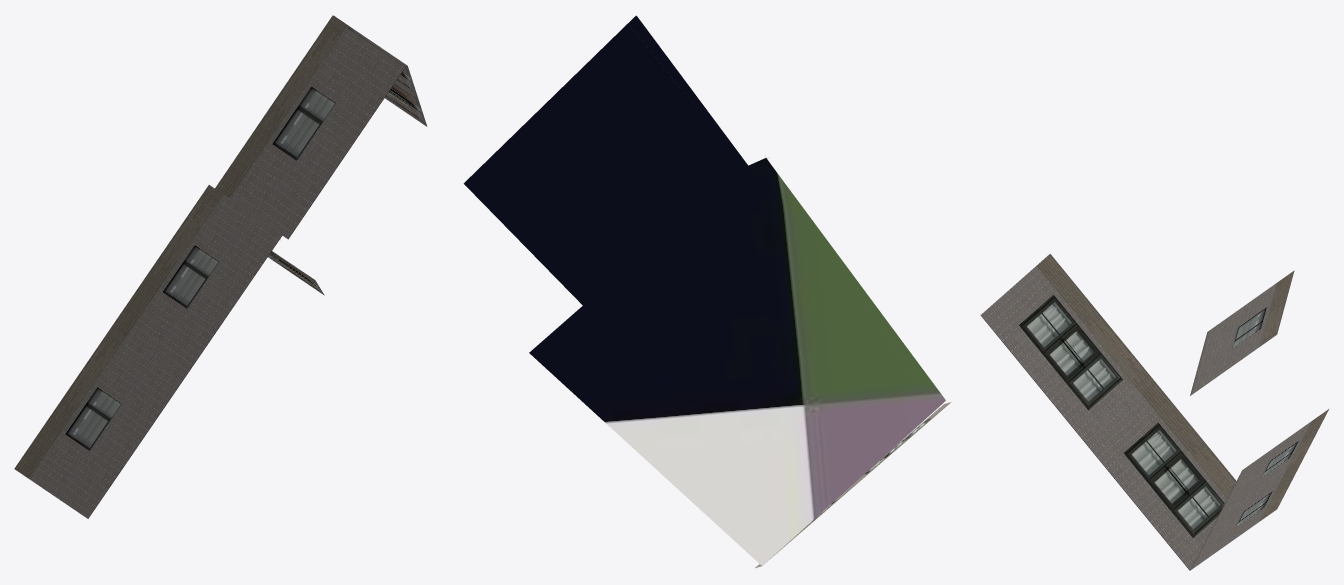
The model's file is tile_LOD4_r3_c1.glb.
3 views of the same model, side by side, from view 1: azimuth 30°, elevation 25°; view 2: azimuth 150°, elevation 25°; view 3: azimuth 270°, elevation 25° (orthographic). The views are drawn at different scales.
Bounding box in the file's own units: 19.25 × 20.75 × 10.
Materials: 4 (4 with a texture image).
